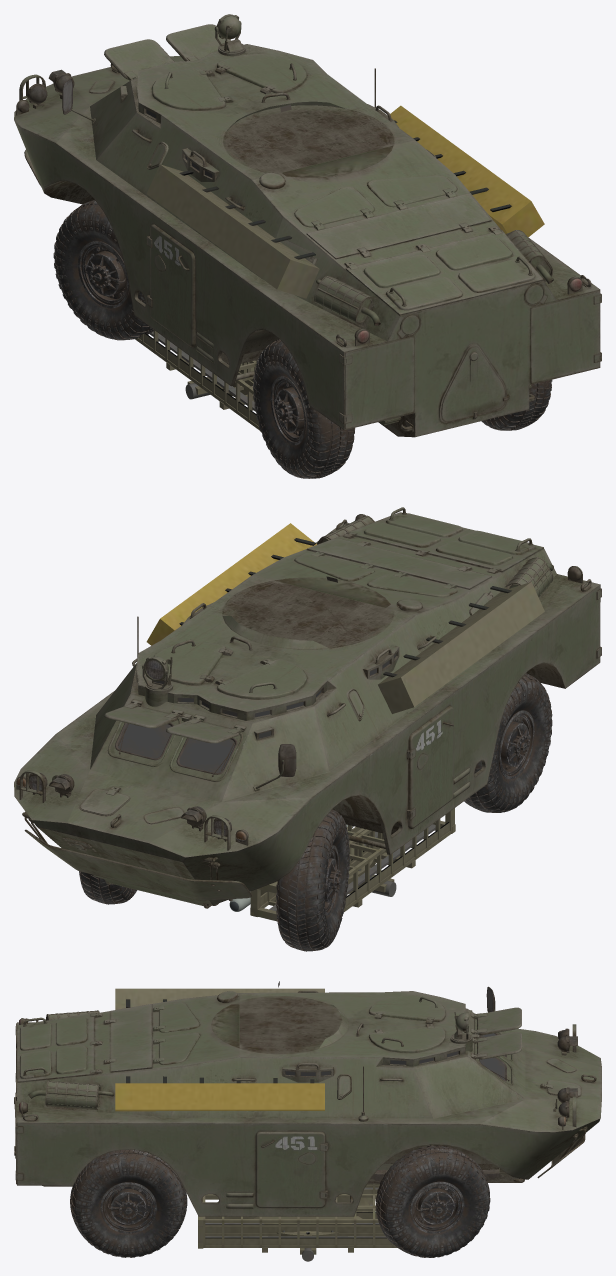
The model's file is strela1.glb.
The picture shows the model from 3 angles, top to bottom: view 1: azimuth 30°, elevation 25°; view 2: azimuth 150°, elevation 25°; view 3: azimuth 270°, elevation 25°; orthographic projection. The views are drawn at different scales.
Parts seen in each view (by area): view 1: body|body_shade.008, body|deco_shade.008, body|wheel.008, body|S1_atlas, cradle|S1_atlas; view 2: body|body_shade.008, body|deco_shade.008, body|wheel.008, body|S1_atlas, cradle|S1_atlas, body|glass_shade.008; view 3: body|body_shade.008, body|deco_shade.008, body|wheel.008, body|S1_atlas, cradle|S1_atlas, turret|S1_atlas, body|glass_shade.008.
Part boxes in pixels (bbox=[...]): body|body_shade.008: bbox=[14, 39, 600, 437]; body|deco_shade.008: bbox=[16, 14, 601, 431]; body|wheel.008: bbox=[53, 200, 552, 478]; body|S1_atlas: bbox=[146, 105, 544, 298]; cradle|S1_atlas: bbox=[135, 330, 261, 432]; body|body_shade.008: bbox=[14, 512, 600, 908]; body|deco_shade.008: bbox=[16, 507, 601, 906]; body|wheel.008: bbox=[79, 673, 552, 951]; body|S1_atlas: bbox=[146, 523, 544, 713]; cradle|S1_atlas: bbox=[250, 808, 455, 921]; body|glass_shade.008: bbox=[118, 576, 396, 773]; body|body_shade.008: bbox=[17, 991, 601, 1216]; body|deco_shade.008: bbox=[14, 986, 596, 1207]; body|wheel.008: bbox=[70, 1145, 490, 1257]; body|S1_atlas: bbox=[115, 988, 324, 1111]; cradle|S1_atlas: bbox=[198, 1183, 397, 1261]; turret|S1_atlas: bbox=[254, 1197, 372, 1236]; body|glass_shade.008: bbox=[278, 981, 505, 1079].
Bounding box in the file's own units: 2.45 × 2.54 × 5.75.
8 materials, 8 textured.
